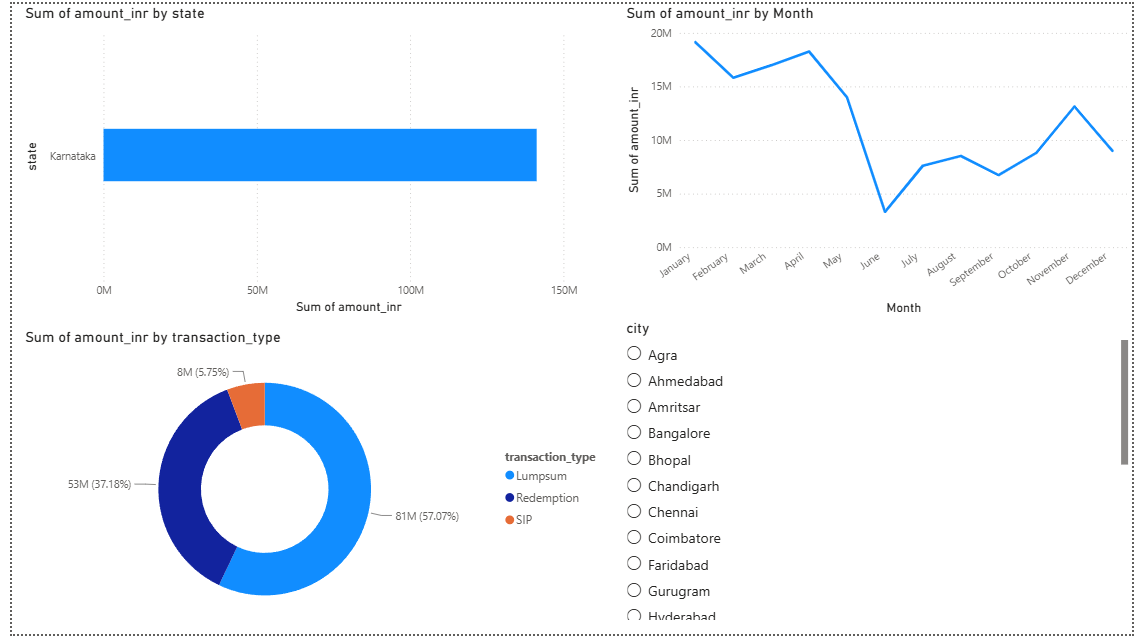

What the dashboard file says about the page in this screenshot:
{"tool":"powerbi","page":{"name":"Investor Analytics","canvas":[1280,720],"ordinal":2},"visuals":[{"type":"clusteredBarChart","fields":{"Category":["fact_transactions.state"],"Y":["Sum(fact_transactions.amount_inr)"]},"box":[9.6,0,676.5,359.5],"z":0},{"type":"donutChart","fields":{"Category":["fact_transactions.transaction_type"],"Y":["Sum(fact_transactions.amount_inr)"]},"box":[10,370,677,350],"z":1},{"type":"lineChart","fields":{"Category":["fact_transactions.transaction_date.Variation.Date Hierarchy.Month","fact_transactions.transaction_date.Variation.Date Hierarchy.Day"],"Y":["Sum(fact_transactions.amount_inr)"]},"box":[697,0,583,360],"z":2},{"type":"listSlicer","fields":{"Values":["fact_transactions.city"]},"box":[697.1,359.5,583.2,349.9],"z":3}]}

Visuals, with their boxes in screenshot pixels (x1, y1, x2, y2), scaled from the page's 1280x720 canvas onto the 1135x637 screenshot:
clusteredBarChart - fact_transactions.state x Sum(fact_transactions.amount_inr): bbox=[9, 0, 608, 318]
donutChart - fact_transactions.transaction_type x Sum(fact_transactions.amount_inr): bbox=[9, 327, 609, 636]
lineChart - fact_transactions.transaction_date.Variation.Date Hierarchy.Month x fact_transactions.transaction_date.Variation.Date Hierarchy.Day: bbox=[618, 0, 1134, 318]
listSlicer - fact_transactions.city: bbox=[618, 318, 1134, 628]
